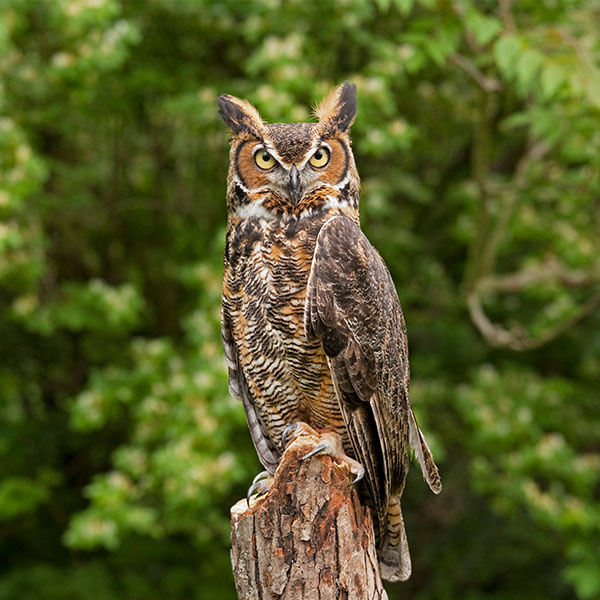owl: (175, 67, 476, 583)
